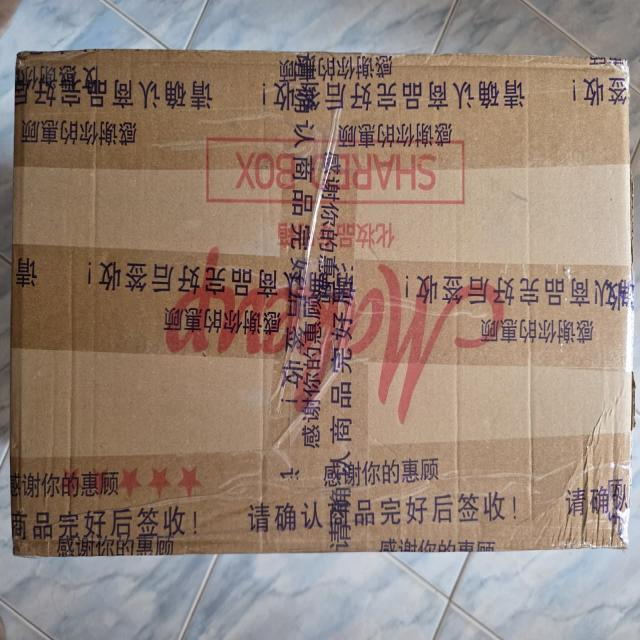carton_box: (2, 46, 640, 566)
